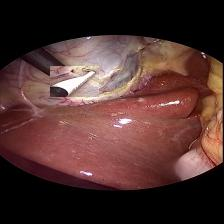Hook: (50, 65, 99, 96)
